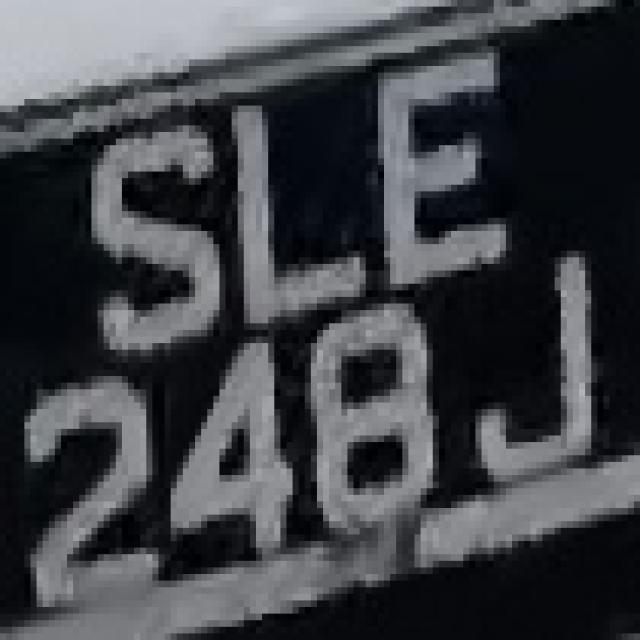2: (0, 370, 171, 614)
4: (152, 323, 305, 561)
8: (274, 284, 445, 548)
E: (366, 39, 512, 284)
J: (463, 244, 610, 475)
L: (232, 72, 378, 336)
S: (67, 105, 226, 363)
